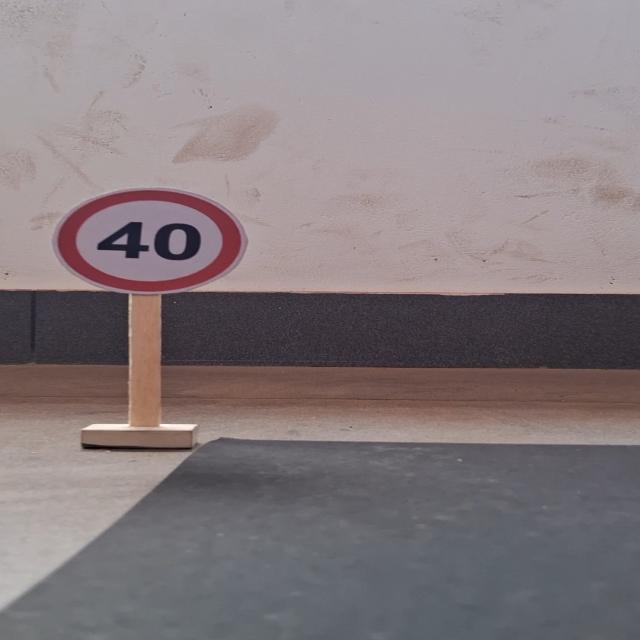Speed40: (40, 185, 266, 297)
